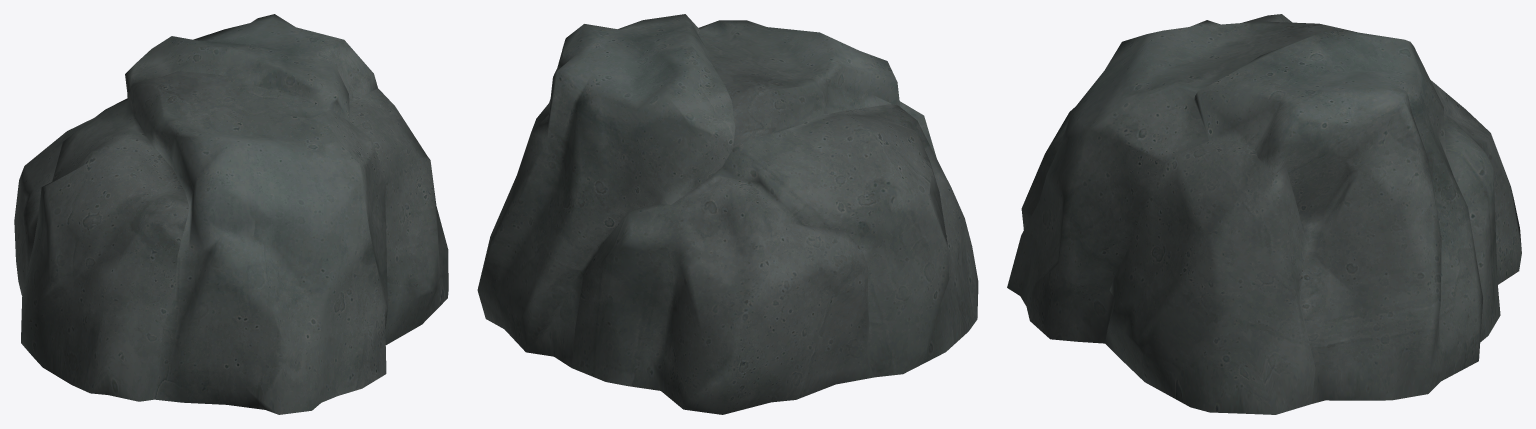
Rendered from Cliff_Wall_Med02.fbx.
3 views of the same model, side by side, from view 1: azimuth 30°, elevation 25°; view 2: azimuth 150°, elevation 25°; view 3: azimuth 270°, elevation 25° (orthographic). The views are drawn at different scales.
Visible parts, largest first — view 1: SM_CliffWall_Med02.mo; view 2: SM_CliffWall_Med02.mo; view 3: SM_CliffWall_Med02.mo.
Part boxes in pixels (bbox=[...]): SM_CliffWall_Med02.mo: bbox=[14, 14, 448, 414]; SM_CliffWall_Med02.mo: bbox=[477, 14, 978, 414]; SM_CliffWall_Med02.mo: bbox=[1007, 14, 1521, 414].
Size of the model in its own units: 1492 by 910 by 1505.
Materials: 1 (1 with a texture image).
